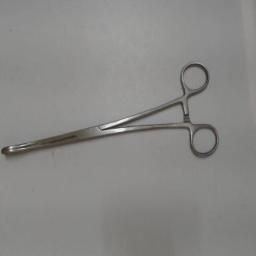Sponge Forceps: (0, 52, 226, 164)
